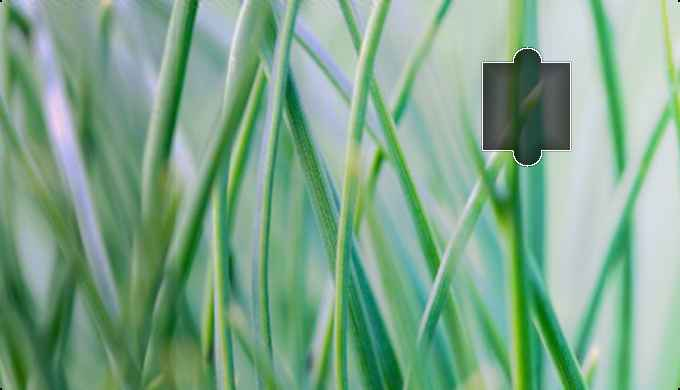gap: (481, 48, 570, 164)
